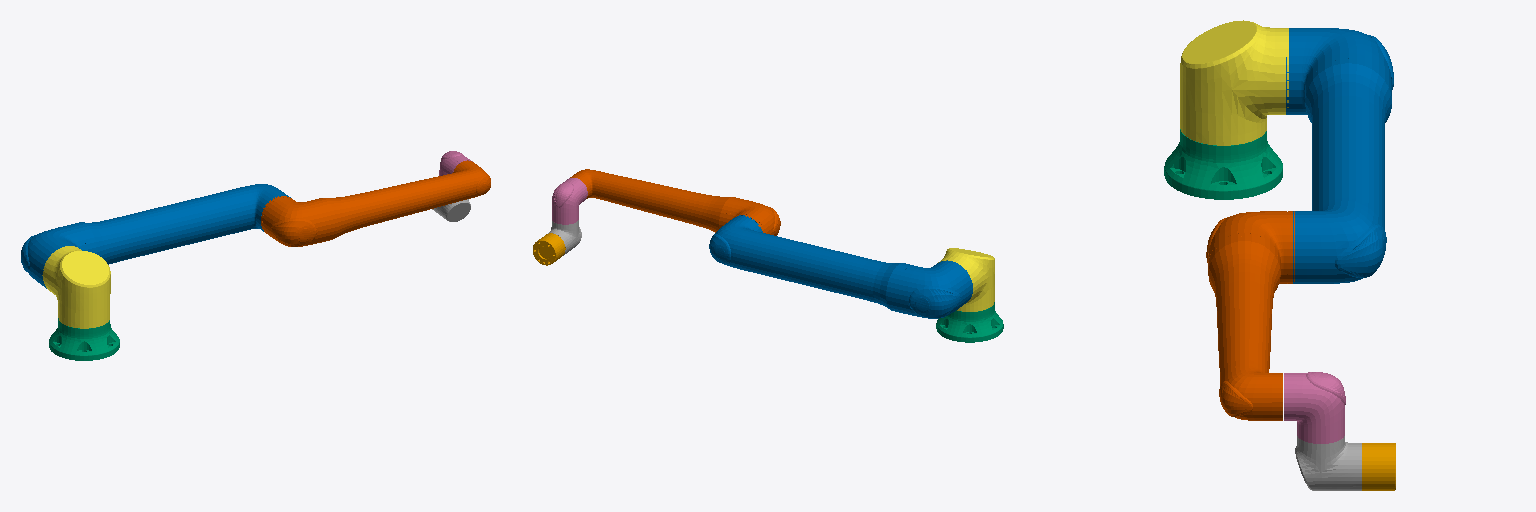
URDF robot description (ur20):
<?xml version='1.0' encoding='utf-8'?>
<robot name="ur20">
  
  
  
  <link name="world" />
  <ros2_control name="ur20" type="system">
    <hardware>
      <plugin>ur_robot_driver/URPositionHardwareInterface</plugin>
      <param name="robot_ip">0.0.0.0</param>
      <param name="script_filename" />
      <param name="output_recipe_filename" />
      <param name="input_recipe_filename" />
      <param name="headless_mode">False</param>
      <param name="reverse_port">50001</param>
      <param name="script_sender_port">50002</param>
      <param name="reverse_ip">0.0.0.0</param>
      <param name="script_command_port">50004</param>
      <param name="trajectory_port">50003</param>
      <param name="tf_prefix" />
      <param name="non_blocking_read">False</param>
      <param name="servoj_gain">2000</param>
      <param name="servoj_lookahead_time">0.03</param>
      <param name="use_tool_communication">False</param>
      <param name="kinematics/hash">calib_4890363623803256388</param>
      <param name="tool_voltage">0</param>
      <param name="tool_parity">0</param>
      <param name="tool_baud_rate">115200</param>
      <param name="tool_stop_bits">1</param>
      <param name="tool_rx_idle_chars">1.5</param>
      <param name="tool_tx_idle_chars">3.5</param>
      <param name="tool_device_name">/tmp/ttyUR</param>
      <param name="tool_tcp_port">54321</param>
      <param name="keep_alive_count">2</param>
    </hardware>
    <joint name="shoulder_pan_joint">
      <command_interface name="position">
        <param name="min">{-2*pi}</param>
        <param name="max">{2*pi}</param>
      </command_interface>
      <command_interface name="velocity">
        <param name="min">-3.15</param>
        <param name="max">3.15</param>
      </command_interface>
      <state_interface name="position">
        
        <param name="initial_value">0.0</param>
      </state_interface>
      <state_interface name="velocity">
        <param name="initial_value">0.0</param>
      </state_interface>
      <state_interface name="effort">
        <param name="initial_value">0.0</param>
      </state_interface>
    </joint>
    <joint name="shoulder_lift_joint">
      <command_interface name="position">
        <param name="min">{-2*pi}</param>
        <param name="max">{2*pi}</param>
      </command_interface>
      <command_interface name="velocity">
        <param name="min">-3.15</param>
        <param name="max">3.15</param>
      </command_interface>
      <state_interface name="position">
        
        <param name="initial_value">-1.57</param>
      </state_interface>
      <state_interface name="velocity">
        <param name="initial_value">0.0</param>
      </state_interface>
      <state_interface name="effort">
        <param name="initial_value">0.0</param>
      </state_interface>
    </joint>
    <joint name="elbow_joint">
      <command_interface name="position">
        <param name="min">{-pi}</param>
        <param name="max">{pi}</param>
      </command_interface>
      <command_interface name="velocity">
        <param name="min">-3.15</param>
        <param name="max">3.15</param>
      </command_interface>
      <state_interface name="position">
        
        <param name="initial_value">0.0</param>
      </state_interface>
      <state_interface name="velocity">
        <param name="initial_value">0.0</param>
      </state_interface>
      <state_interface name="effort">
        <param name="initial_value">0.0</param>
      </state_interface>
    </joint>
    <joint name="wrist_1_joint">
      <command_interface name="position">
        <param name="min">{-2*pi}</param>
        <param name="max">{2*pi}</param>
      </command_interface>
      <command_interface name="velocity">
        <param name="min">-3.2</param>
        <param name="max">3.2</param>
      </command_interface>
      <state_interface name="position">
        
        <param name="initial_value">-1.57</param>
      </state_interface>
      <state_interface name="velocity">
        <param name="initial_value">0.0</param>
      </state_interface>
      <state_interface name="effort">
        <param name="initial_value">0.0</param>
      </state_interface>
    </joint>
    <joint name="wrist_2_joint">
      <command_interface name="position">
        <param name="min">{-2*pi}</param>
        <param name="max">{2*pi}</param>
      </command_interface>
      <command_interface name="velocity">
        <param name="min">-3.2</param>
        <param name="max">3.2</param>
      </command_interface>
      <state_interface name="position">
        
        <param name="initial_value">0.0</param>
      </state_interface>
      <state_interface name="velocity">
        <param name="initial_value">0.0</param>
      </state_interface>
      <state_interface name="effort">
        <param name="initial_value">0.0</param>
      </state_interface>
    </joint>
    <joint name="wrist_3_joint">
      <command_interface name="position">
        <param name="min">{-2*pi}</param>
        <param name="max">{2*pi}</param>
      </command_interface>
      <command_interface name="velocity">
        <param name="min">-3.2</param>
        <param name="max">3.2</param>
      </command_interface>
      <state_interface name="position">
        
        <param name="initial_value">0.0</param>
      </state_interface>
      <state_interface name="velocity">
        <param name="initial_value">0.0</param>
      </state_interface>
      <state_interface name="effort">
        <param name="initial_value">0.0</param>
      </state_interface>
    </joint>
    <sensor name="tcp_fts_sensor">
      <state_interface name="force.x" />
      <state_interface name="force.y" />
      <state_interface name="force.z" />
      <state_interface name="torque.x" />
      <state_interface name="torque.y" />
      <state_interface name="torque.z" />
    </sensor>
    
    <gpio name="speed_scaling">
      <state_interface name="speed_scaling_factor" />
      <param name="initial_speed_scaling_factor">1</param>
      <command_interface name="target_speed_fraction_cmd" />
      <command_interface name="target_speed_fraction_async_success" />
    </gpio>
    <gpio name="gpio">
      <command_interface name="standard_digital_output_cmd_0" />
      <command_interface name="standard_digital_output_cmd_1" />
      <command_interface name="standard_digital_output_cmd_2" />
      <command_interface name="standard_digital_output_cmd_3" />
      <command_interface name="standard_digital_output_cmd_4" />
      <command_interface name="standard_digital_output_cmd_5" />
      <command_interface name="standard_digital_output_cmd_6" />
      <command_interface name="standard_digital_output_cmd_7" />
      <command_interface name="standard_digital_output_cmd_8" />
      <command_interface name="standard_digital_output_cmd_9" />
      <command_interface name="standard_digital_output_cmd_10" />
      <command_interface name="standard_digital_output_cmd_11" />
      <command_interface name="standard_digital_output_cmd_12" />
      <command_interface name="standard_digital_output_cmd_13" />
      <command_interface name="standard_digital_output_cmd_14" />
      <command_interface name="standard_digital_output_cmd_15" />
      <command_interface name="standard_digital_output_cmd_16" />
      <command_interface name="standard_digital_output_cmd_17" />
      <command_interface name="standard_analog_output_cmd_0" />
      <command_interface name="standard_analog_output_cmd_1" />
      <command_interface name="tool_voltage_cmd" />
      <command_interface name="io_async_success" />
      <state_interface name="digital_output_0" />
      <state_interface name="digital_output_1" />
      <state_interface name="digital_output_2" />
      <state_interface name="digital_output_3" />
      <state_interface name="digital_output_4" />
      <state_interface name="digital_output_5" />
      <state_interface name="digital_output_6" />
      <state_interface name="digital_output_7" />
      <state_interface name="digital_output_8" />
      <state_interface name="digital_output_9" />
      <state_interface name="digital_output_10" />
      <state_interface name="digital_output_11" />
      <state_interface name="digital_output_12" />
      <state_interface name="digital_output_13" />
      <state_interface name="digital_output_14" />
      <state_interface name="digital_output_15" />
      <state_interface name="digital_output_16" />
      <state_interface name="digital_output_17" />
      <state_interface name="digital_input_0" />
      <state_interface name="digital_input_1" />
      <state_interface name="digital_input_2" />
      <state_interface name="digital_input_3" />
      <state_interface name="digital_input_4" />
      <state_interface name="digital_input_5" />
      <state_interface name="digital_input_6" />
      <state_interface name="digital_input_7" />
      <state_interface name="digital_input_8" />
      <state_interface name="digital_input_9" />
      <state_interface name="digital_input_10" />
      <state_interface name="digital_input_11" />
      <state_interface name="digital_input_12" />
      <state_interface name="digital_input_13" />
      <state_interface name="digital_input_14" />
      <state_interface name="digital_input_15" />
      <state_interface name="digital_input_16" />
      <state_interface name="digital_input_17" />
      <state_interface name="standard_analog_output_0" />
      <state_interface name="standard_analog_output_1" />
      <state_interface name="standard_analog_input_0" />
      <state_interface name="standard_analog_input_1" />
      <state_interface name="analog_io_type_0" />
      <state_interface name="analog_io_type_1" />
      <state_interface name="analog_io_type_2" />
      <state_interface name="analog_io_type_3" />
      <state_interface name="tool_mode" />
      <state_interface name="tool_output_voltage" />
      <state_interface name="tool_output_current" />
      <state_interface name="tool_temperature" />
      <state_interface name="tool_analog_input_0" />
      <state_interface name="tool_analog_input_1" />
      <state_interface name="tool_analog_input_type_0" />
      <state_interface name="tool_analog_input_type_1" />
      <state_interface name="robot_mode" />
      <state_interface name="robot_status_bit_0" />
      <state_interface name="robot_status_bit_1" />
      <state_interface name="robot_status_bit_2" />
      <state_interface name="robot_status_bit_3" />
      <state_interface name="safety_mode" />
      <state_interface name="safety_status_bit_0" />
      <state_interface name="safety_status_bit_1" />
      <state_interface name="safety_status_bit_2" />
      <state_interface name="safety_status_bit_3" />
      <state_interface name="safety_status_bit_4" />
      <state_interface name="safety_status_bit_5" />
      <state_interface name="safety_status_bit_6" />
      <state_interface name="safety_status_bit_7" />
      <state_interface name="safety_status_bit_8" />
      <state_interface name="safety_status_bit_9" />
      <state_interface name="safety_status_bit_10" />
      <state_interface name="program_running" />
    </gpio>
    <gpio name="payload">
      <command_interface name="mass" />
      <command_interface name="cog.x" />
      <command_interface name="cog.y" />
      <command_interface name="cog.z" />
      <command_interface name="payload_async_success" />
    </gpio>
    <gpio name="resend_robot_program">
      <command_interface name="resend_robot_program_cmd" />
      <command_interface name="resend_robot_program_async_success" />
    </gpio>
    <gpio name="hand_back_control">
      <command_interface name="hand_back_control_cmd" />
      <command_interface name="hand_back_control_async_success" />
    </gpio>
    <gpio name="zero_ftsensor">
      <command_interface name="zero_ftsensor_cmd" />
      <command_interface name="zero_ftsensor_async_success" />
    </gpio>
    <gpio name="force_mode">
      <command_interface name="task_frame_x" />
      <command_interface name="task_frame_y" />
      <command_interface name="task_frame_z" />
      <command_interface name="task_frame_rx" />
      <command_interface name="task_frame_ry" />
      <command_interface name="task_frame_rz" />
      <command_interface name="selection_vector_x" />
      <command_interface name="selection_vector_y" />
      <command_interface name="selection_vector_z" />
      <command_interface name="selection_vector_rx" />
      <command_interface name="selection_vector_ry" />
      <command_interface name="selection_vector_rz" />
      <command_interface name="wrench_x" />
      <command_interface name="wrench_y" />
      <command_interface name="wrench_z" />
      <command_interface name="wrench_rx" />
      <command_interface name="wrench_ry" />
      <command_interface name="wrench_rz" />
      <command_interface name="limits_x" />
      <command_interface name="limits_y" />
      <command_interface name="limits_z" />
      <command_interface name="limits_rx" />
      <command_interface name="limits_ry" />
      <command_interface name="limits_rz" />
      <command_interface name="type" />
      <command_interface name="disable_cmd" />
      <command_interface name="force_mode_async_success" />
      <command_interface name="damping" />
      <command_interface name="gain_scaling" />
    </gpio>
    <gpio name="system_interface">
      <state_interface name="initialized" />
    </gpio>
  </ros2_control>
  
  
  
  
  <link name="base_link" />
  <link name="base_link_inertia">
    <visual>
      <origin rpy="0 0 3.141592653589793" xyz="0 0 0" />
      <geometry>
        <mesh filename="meshes/base.dae" />
      </geometry>
    </visual>
    <collision>
      <origin rpy="0 0 3.141592653589793" xyz="0 0 0" />
      <geometry>
        <mesh filename="meshes/base.stl" />
      </geometry>
    </collision>
    <inertial>
      <mass value="4.0" />
      <origin rpy="0 0 0" xyz="0 0 0" />
      <inertia ixx="0.0061063308908" ixy="0.0" ixz="0.0" iyy="0.0061063308908" iyz="0.0" izz="0.01125" />
    </inertial>
  </link>
  <link name="shoulder_link">
    <visual>
      <origin rpy="0 0 3.141592653589793" xyz="0 0 0" />
      <geometry>
        <mesh filename="meshes/shoulder.dae" />
      </geometry>
    </visual>
    <collision>
      <origin rpy="0 0 3.141592653589793" xyz="0 0 0" />
      <geometry>
        <mesh filename="meshes/shoulder.stl" />
      </geometry>
    </collision>
    <inertial>
      <mass value="16.343" />
      <origin rpy="0 0 0" xyz="0 0 0" />
      <inertia ixx="0.06613328496334209" ixy="0.0" ixz="0.0" iyy="0.06613328496334209" iyz="0.0" izz="0.0459646875" />
    </inertial>
  </link>
  <link name="upper_arm_link">
    <visual>
      <origin rpy="1.5707963267948966 0 -1.5707963267948966" xyz="0 0 0.26" />
      <geometry>
        <mesh filename="meshes/upperarm.dae" />
      </geometry>
    </visual>
    <collision>
      <origin rpy="1.5707963267948966 0 -1.5707963267948966" xyz="0 0 0.26" />
      <geometry>
        <mesh filename="meshes/upperarm.stl" />
      </geometry>
    </collision>
    <inertial>
      <mass value="29.632" />
      <origin rpy="0 1.5707963267948966 0" xyz="-0.426 0.0 0.275" />
      <inertia ixx="1.8341682103324226" ixy="0.0" ixz="0.0" iyy="1.8341682103324226" iyz="0.0" izz="0.08334" />
    </inertial>
  </link>
  <link name="forearm_link">
    <visual>
      <origin rpy="1.5707963267948966 0 -1.5707963267948966" xyz="0 0 0.043" />
      <geometry>
        <mesh filename="meshes/forearm.dae" />
      </geometry>
    </visual>
    <collision>
      <origin rpy="1.5707963267948966 0 -1.5707963267948966" xyz="0 0 0.043" />
      <geometry>
        <mesh filename="meshes/forearm.stl" />
      </geometry>
    </collision>
    <inertial>
      <mass value="7.879" />
      <origin rpy="0 1.5707963267948966 0" xyz="-0.36435 0.0 0.043" />
      <inertia ixx="0.35972787265129336" ixy="0.0" ixz="0.0" iyy="0.35972787265129336" iyz="0.0" izz="0.022159687499999997" />
    </inertial>
  </link>
  <link name="wrist_1_link">
    <visual>
      <origin rpy="1.5707963267948966 0 0" xyz="0 0 -0.0775" />
      <geometry>
        <mesh filename="meshes/wrist1.dae" />
      </geometry>
    </visual>
    <collision>
      <origin rpy="1.5707963267948966 0 0" xyz="0 0 -0.0775" />
      <geometry>
        <mesh filename="meshes/wrist1.stl" />
      </geometry>
    </collision>
    <inertial>
      <mass value="3.054" />
      <origin rpy="0 0 0" xyz="0 0 0" />
      <inertia ixx="0.007959484316204999" ixy="0.0" ixz="0.0" iyy="0.007959484316204999" iyz="0.0" izz="0.008589374999999998" />
    </inertial>
  </link>
  <link name="wrist_2_link">
    <visual>
      <origin rpy="0 0 0" xyz="0 0 -0.0749" />
      <geometry>
        <mesh filename="meshes/wrist2.dae" />
      </geometry>
    </visual>
    <collision>
      <origin rpy="0 0 0" xyz="0 0 -0.0749" />
      <geometry>
        <mesh filename="meshes/wrist2.stl" />
      </geometry>
    </collision>
    <inertial>
      <mass value="3.126" />
      <origin rpy="0 0 0" xyz="0 0 0" />
      <inertia ixx="0.008147134241144998" ixy="0.0" ixz="0.0" iyy="0.008147134241144998" iyz="0.0" izz="0.008791875" />
    </inertial>
  </link>
  <link name="wrist_3_link">
    <visual>
      <origin rpy="1.5707963267948966 0 0" xyz="0 0 -0.07" />
      <geometry>
        <mesh filename="meshes/wrist3.dae" />
      </geometry>
    </visual>
    <collision>
      <origin rpy="1.5707963267948966 0 0" xyz="0 0 -0.07" />
      <geometry>
        <mesh filename="meshes/wrist3.stl" />
      </geometry>
    </collision>
    <inertial>
      <mass value="0.846" />
      <origin rpy="0 0 0" xyz="0.0 0.0 -0.025" />
      <inertia ixx="0.000604537258185" ixy="0.0" ixz="0.0" iyy="0.000604537258185" iyz="0.0" izz="0.0008565749999999999" />
    </inertial>
  </link>
  
  <joint name="base_joint" type="fixed">
    <origin rpy="0 0 0" xyz="0 0 0" />
    <parent link="world" />
    <child link="base_link" />
  </joint>
  
  <joint name="base_link-base_link_inertia" type="fixed">
    <parent link="base_link" />
    <child link="base_link_inertia" />
    
    <origin rpy="0 0 3.141592653589793" xyz="0 0 0" />
  </joint>
  <joint name="shoulder_pan_joint" type="revolute">
    <parent link="base_link_inertia" />
    <child link="shoulder_link" />
    <origin rpy="0 0 0" xyz="0 0 0.2363" />
    <axis xyz="0 0 1" />
    <limit effort="730.0" lower="-6.283185307179586" upper="6.283185307179586" velocity="2.0943951023931953" />
    <dynamics damping="0" friction="0" />
  </joint>
  <joint name="shoulder_lift_joint" type="revolute">
    <parent link="shoulder_link" />
    <child link="upper_arm_link" />
    <origin rpy="1.570796327 0 0" xyz="0 0 0" />
    <axis xyz="0 0 1" />
    <limit effort="730.0" lower="-6.283185307179586" upper="6.283185307179586" velocity="2.0943951023931953" />
    <dynamics damping="0" friction="0" />
  </joint>
  <joint name="elbow_joint" type="revolute">
    <parent link="upper_arm_link" />
    <child link="forearm_link" />
    <origin rpy="0 0 0" xyz="-0.862 0 0" />
    <axis xyz="0 0 1" />
    <limit effort="430.0" lower="-3.141592653589793" upper="3.141592653589793" velocity="2.6179938779914944" />
    <dynamics damping="0" friction="0" />
  </joint>
  <joint name="wrist_1_joint" type="revolute">
    <parent link="forearm_link" />
    <child link="wrist_1_link" />
    <origin rpy="0 0 0" xyz="-0.7287 0 0.201" />
    <axis xyz="0 0 1" />
    <limit effort="100.0" lower="-6.283185307179586" upper="6.283185307179586" velocity="3.6651914291880923" />
    <dynamics damping="0" friction="0" />
  </joint>
  <joint name="wrist_2_joint" type="revolute">
    <parent link="wrist_1_link" />
    <child link="wrist_2_link" />
    <origin rpy="1.570796327 0 0" xyz="0 -0.1593 -3.267297616249225e-11" />
    <axis xyz="0 0 1" />
    <limit effort="100.0" lower="-6.283185307179586" upper="6.283185307179586" velocity="3.6651914291880923" />
    <dynamics damping="0" friction="0" />
  </joint>
  <joint name="wrist_3_joint" type="revolute">
    <parent link="wrist_2_link" />
    <child link="wrist_3_link" />
    <origin rpy="1.570796326589793 3.141592653589793 3.141592653589793" xyz="0 0.1543 -3.1647459019915597e-11" />
    <axis xyz="0 0 1" />
    <limit effort="100.0" lower="-6.283185307179586" upper="6.283185307179586" velocity="3.6651914291880923" />
    <dynamics damping="0" friction="0" />
  </joint>
  <link name="ft_frame" />
  <joint name="wrist_3_link-ft_frame" type="fixed">
    <parent link="wrist_3_link" />
    <child link="ft_frame" />
    <origin rpy="3.141592653589793 0 0" xyz="0 0 0" />
  </joint>
  
  <link name="base" />
  <joint name="base_link-base_fixed_joint" type="fixed">
    
    <origin rpy="0 0 3.141592653589793" xyz="0 0 0" />
    <parent link="base_link" />
    <child link="base" />
  </joint>
  
  <link name="flange" />
  <joint name="wrist_3-flange" type="fixed">
    <parent link="wrist_3_link" />
    <child link="flange" />
    <origin rpy="0 -1.5707963267948966 -1.5707963267948966" xyz="0 0 0" />
  </joint>
  
  <link name="tool0" />
  <joint name="flange-tool0" type="fixed">
    
    <origin rpy="1.5707963267948966 0 1.5707963267948966" xyz="0 0 0" />
    <parent link="flange" />
    <child link="tool0" />
  </joint>
</robot>

--- Facts derived from the render (not from the file) ---
Views: 3 orthographic renders of the robot side by side, from view 1: azimuth 30°, elevation 25°; view 2: azimuth 150°, elevation 25°; view 3: azimuth 270°, elevation 25°.
Model ur20 with 13 links and 12 joints (6 revolute, 6 fixed), rooted at world, posed all joints at 0.
Visible links, largest first — view 1: upper_arm_link, forearm_link, shoulder_link, base_link_inertia, wrist_2_link; view 2: upper_arm_link, forearm_link, shoulder_link, base_link_inertia, wrist_1_link, wrist_3_link, wrist_2_link; view 3: upper_arm_link, forearm_link, shoulder_link, base_link_inertia, wrist_1_link, wrist_2_link, wrist_3_link.
Link boxes in pixels (x1,y1,x2,y2): upper_arm_link: (21, 184, 290, 288); forearm_link: (261, 160, 490, 246); shoulder_link: (42, 246, 110, 328); base_link_inertia: (49, 318, 119, 360); wrist_2_link: (432, 199, 470, 221); upper_arm_link: (709, 215, 972, 318); forearm_link: (570, 169, 780, 235); shoulder_link: (938, 248, 994, 311); base_link_inertia: (936, 302, 1003, 342); wrist_1_link: (552, 178, 587, 224); wrist_3_link: (533, 233, 565, 265); wrist_2_link: (548, 220, 581, 255); upper_arm_link: (1286, 28, 1393, 283); forearm_link: (1206, 211, 1294, 420); shoulder_link: (1180, 20, 1288, 145); base_link_inertia: (1164, 129, 1282, 199); wrist_1_link: (1284, 372, 1345, 443); wrist_2_link: (1295, 436, 1361, 490); wrist_3_link: (1362, 443, 1395, 490).
Size in the robot's own frame: 1.77 by 0.4775 by 0.333 metres.
7 mesh visuals loaded from 7 distinct referenced files (7 Collada DAE).
